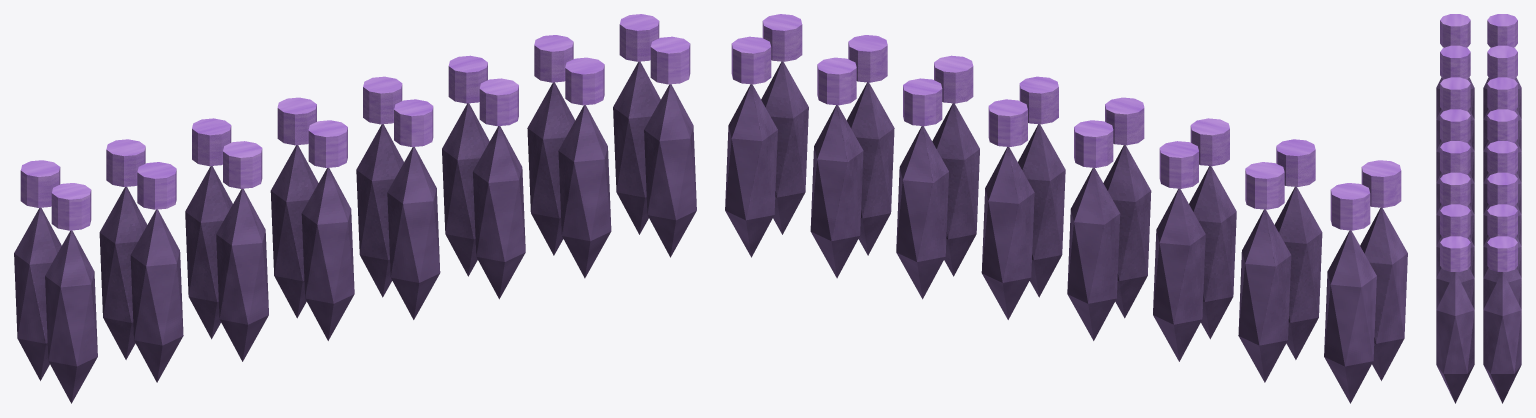
The model's file is base_crop_shine_var_ripe.glb.
3 views of the same model, side by side, from view 1: azimuth 30°, elevation 25°; view 2: azimuth 150°, elevation 25°; view 3: azimuth 270°, elevation 25° (orthographic). The views are drawn at different scales.
Parts seen in each view (by area): view 1: base_crop_shine_var_ripe; view 2: base_crop_shine_var_ripe; view 3: base_crop_shine_var_ripe.
Part boxes in pixels (x1,y1,x2,y2): base_crop_shine_var_ripe: [14, 14, 696, 403]; base_crop_shine_var_ripe: [725, 14, 1407, 403]; base_crop_shine_var_ripe: [1436, 14, 1521, 403].
Bounding box in the file's own units: 4.81 × 1.51 × 0.7266.
Materials: 2 (2 with a texture image).
